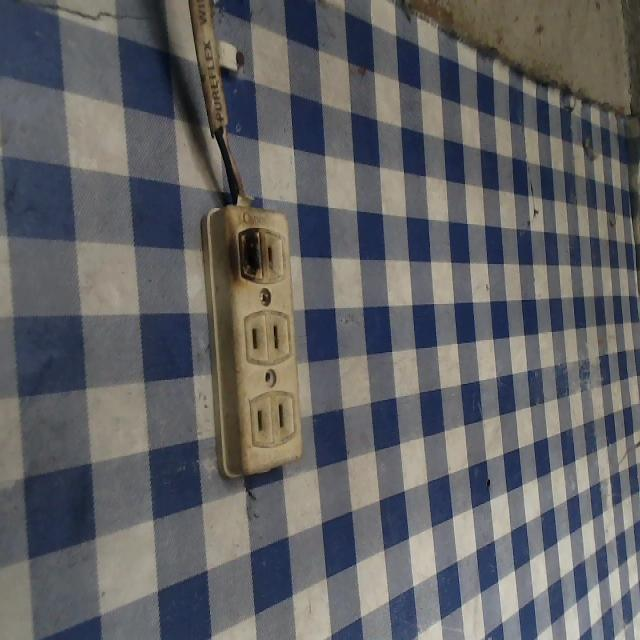-: (232, 222, 272, 286)
